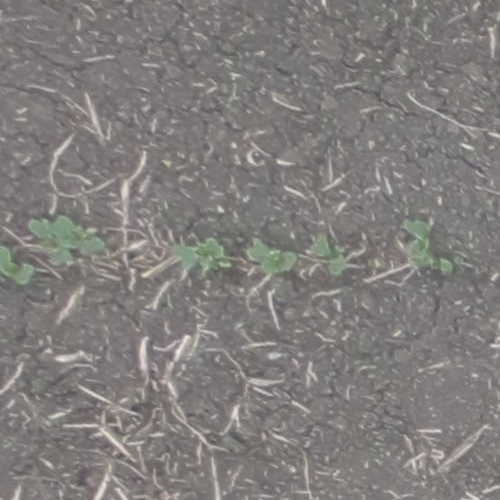plant: (1, 213, 105, 286), (400, 220, 449, 273), (169, 235, 231, 270), (244, 238, 297, 273), (308, 231, 345, 274)
